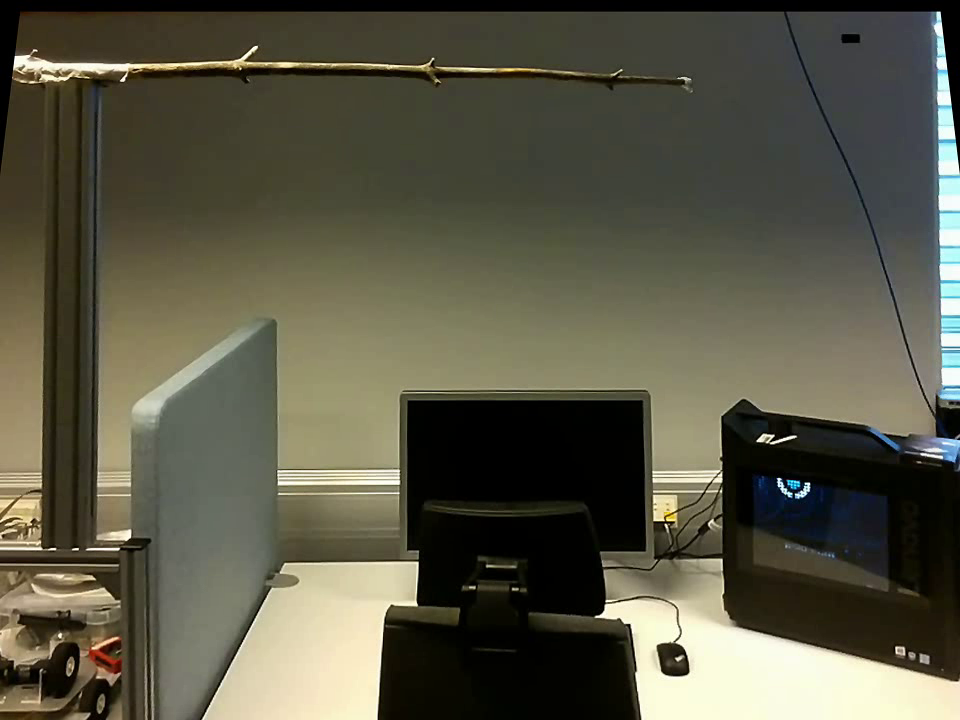aluminum_frame: (35, 86, 104, 547), (117, 538, 164, 717), (2, 533, 124, 574)
branch: (139, 40, 671, 96)
